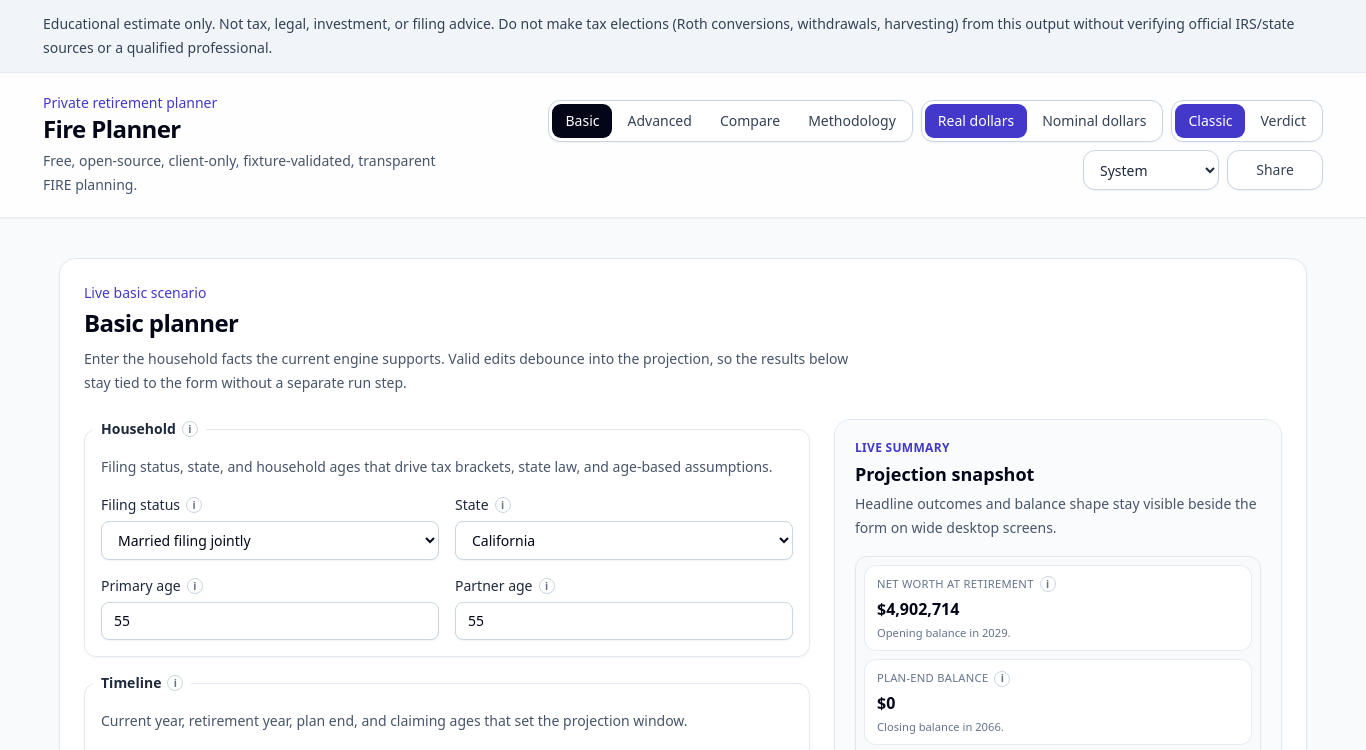
it: App › persists mode changes and renders only the advanced Gate 4 shell
Click the button "Advanced". click: (660, 121)
box: [616,105,704,137]
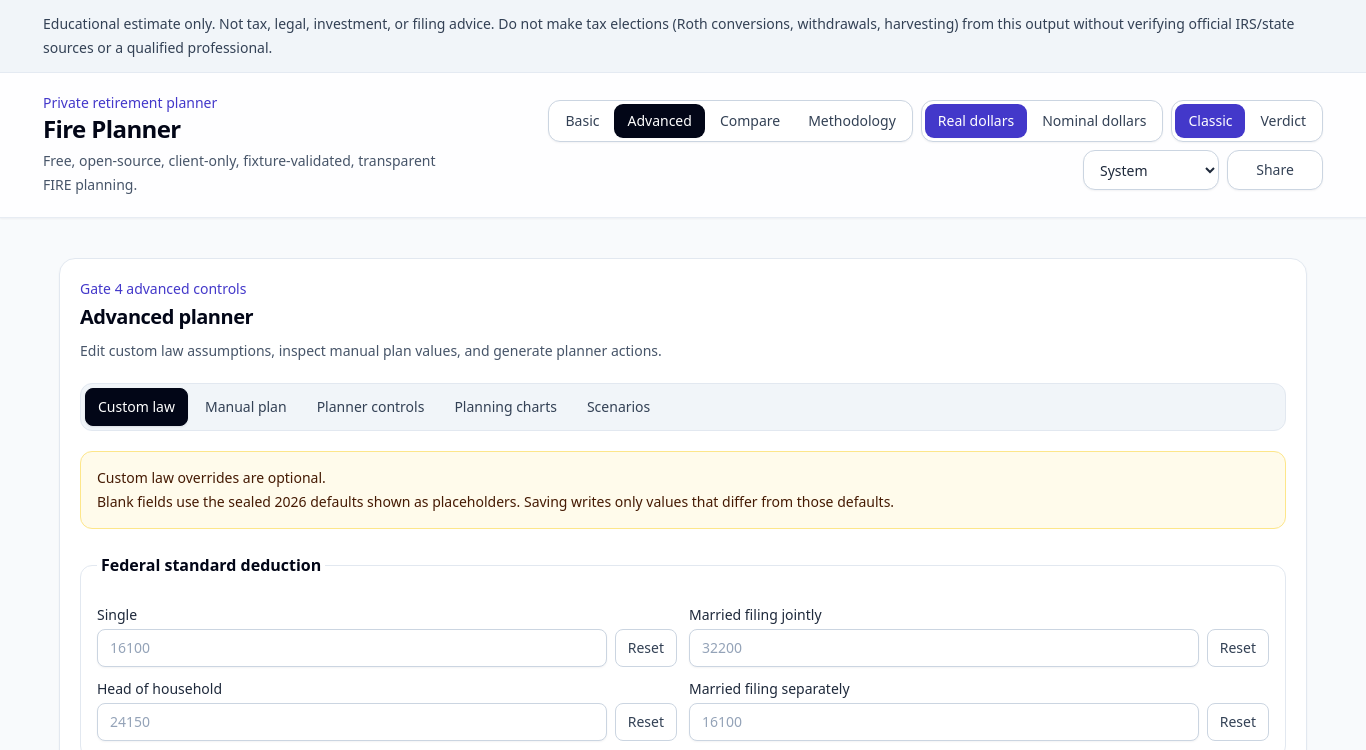
Expected: the heading "Advanced planner" is shown, [80,303,253,330]
Expected: the tab "Custom law" is shown, [85,388,188,426]
Expected: the tab "Manual plan" is shown, [192,388,300,426]
